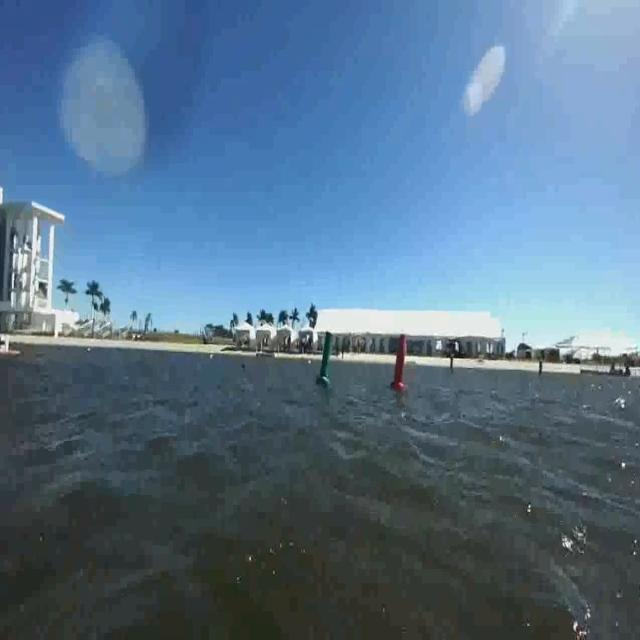green-column-buoy: (316, 331, 335, 385)
red-column-buoy: (389, 334, 408, 391)
